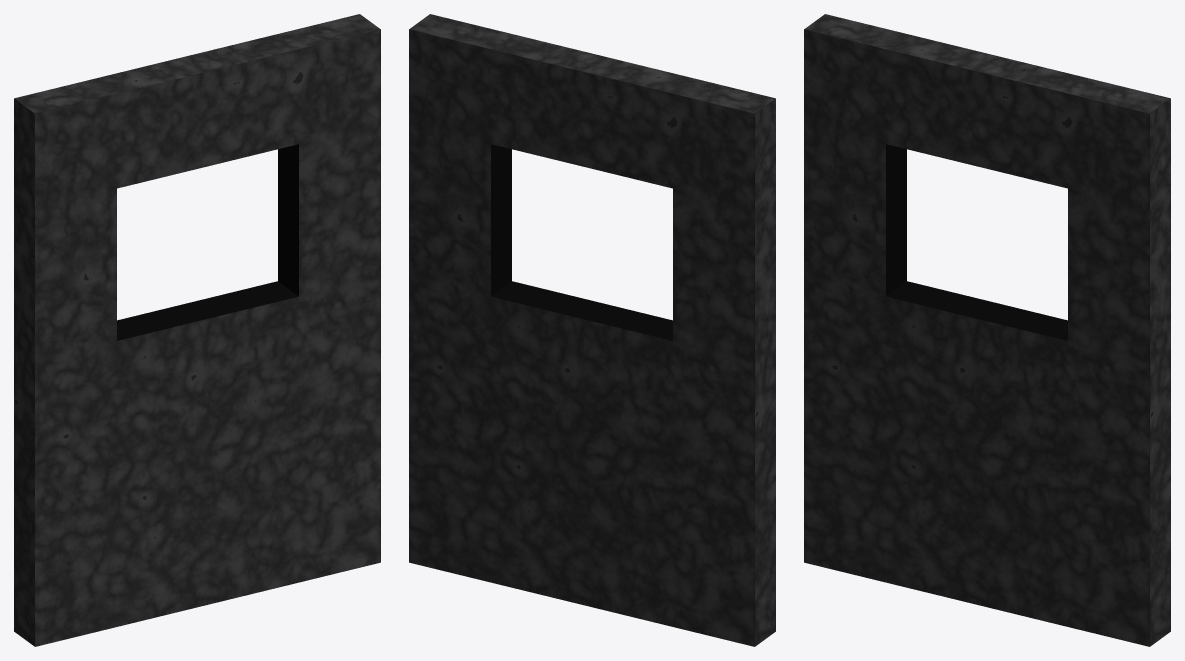
File: drzwi.fbx
3 views of the same model, side by side, from view 1: azimuth 30°, elevation 25°; view 2: azimuth 150°, elevation 25°; view 3: azimuth 330°, elevation 25° (orthographic).
Visible parts, largest first — view 1: Operacja_Boole_a; view 2: Operacja_Boole_a; view 3: Operacja_Boole_a.
Boxes of the visible parts, left/top/right/bottom form: Operacja_Boole_a: left=14, top=14, right=380, bottom=646; Operacja_Boole_a: left=409, top=14, right=775, bottom=646; Operacja_Boole_a: left=804, top=14, right=1170, bottom=646.
Size of the model in its own units: 190 by 280 by 20.
Materials: 1 (1 with a texture image).
